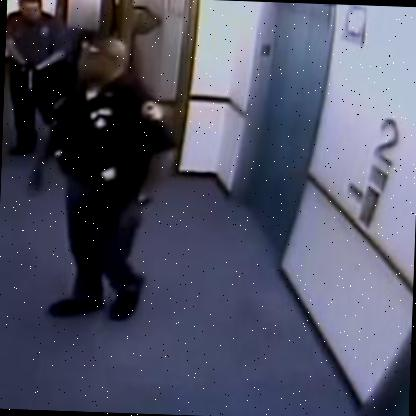person: (31, 30, 179, 326)
